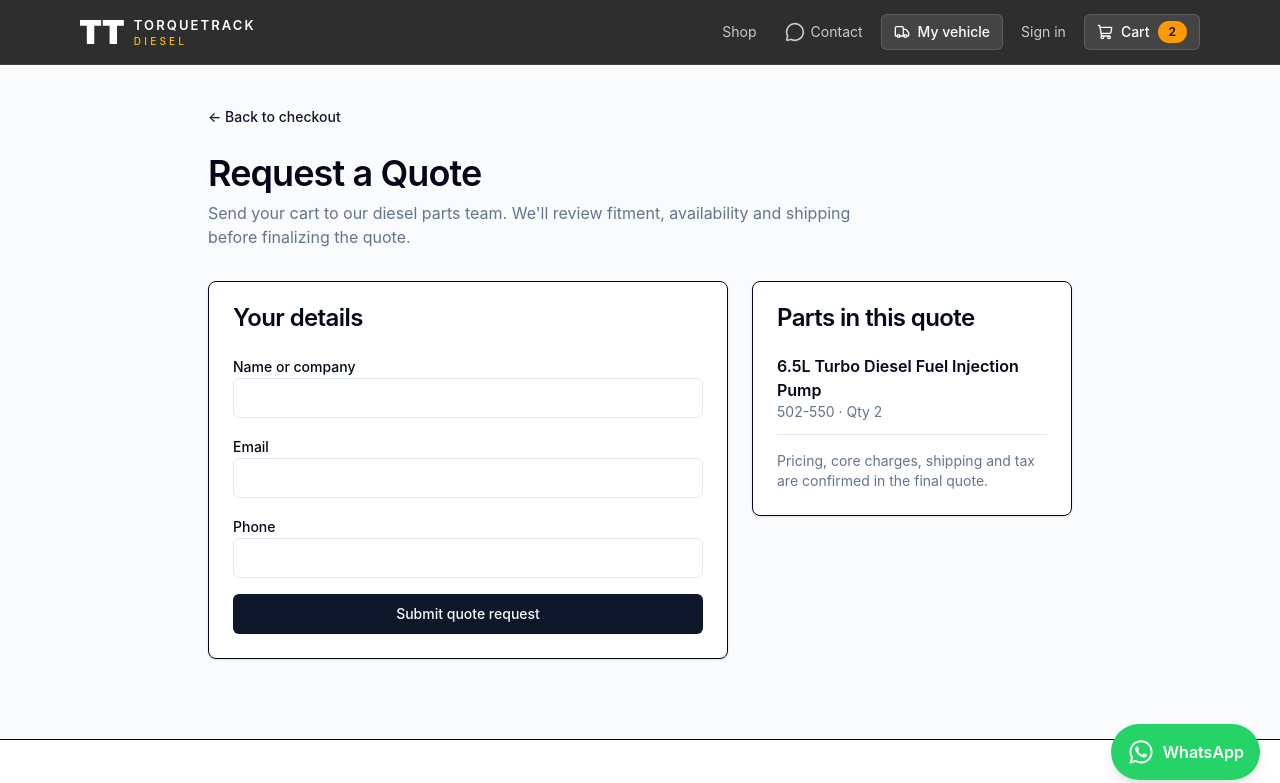
Test: RequestQuotePage › shows the API error
Expected: the text "6.5L Turbo Diesel Fuel Injection Pump" is shown, 777,354 -> 1047,402
Type "Jane Diesel" into the field labelled "Name or company" at [468, 398], box 233,378 -> 703,418
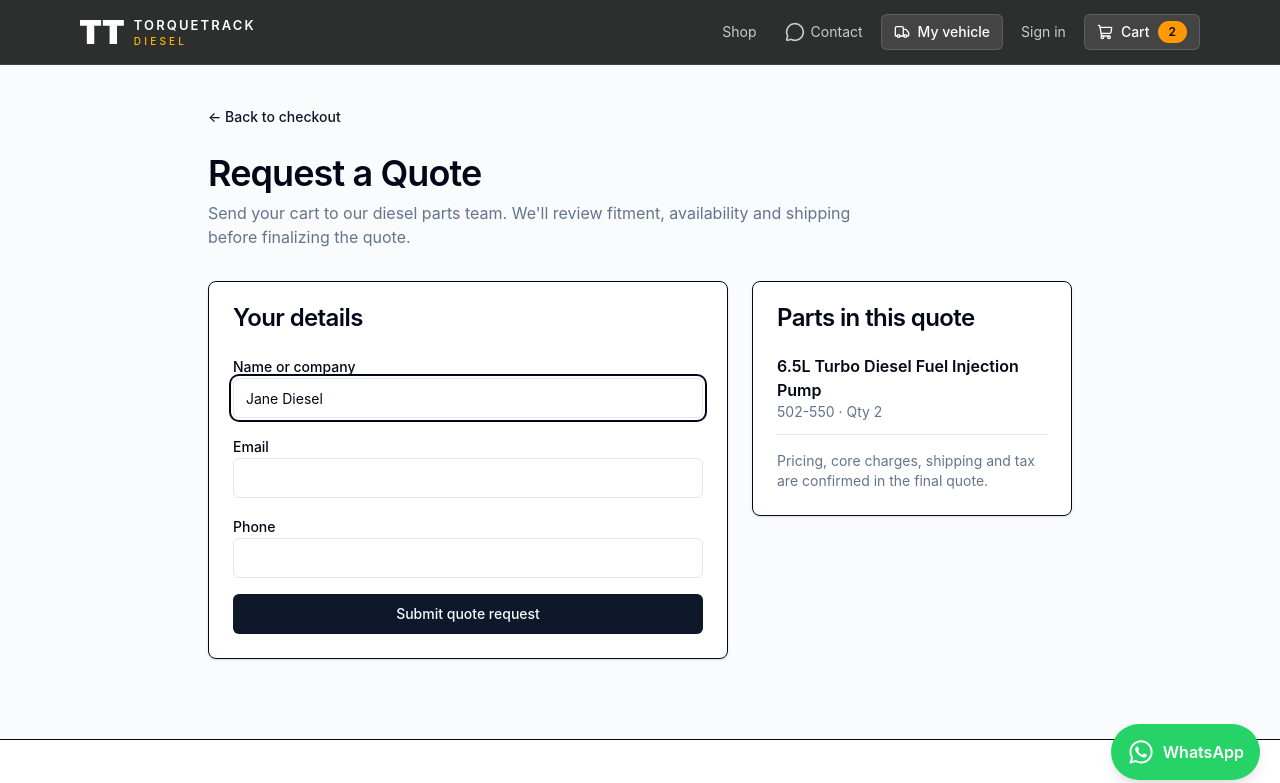
Click the button "Submit quote request" at [468, 614], box 233,594 -> 703,634
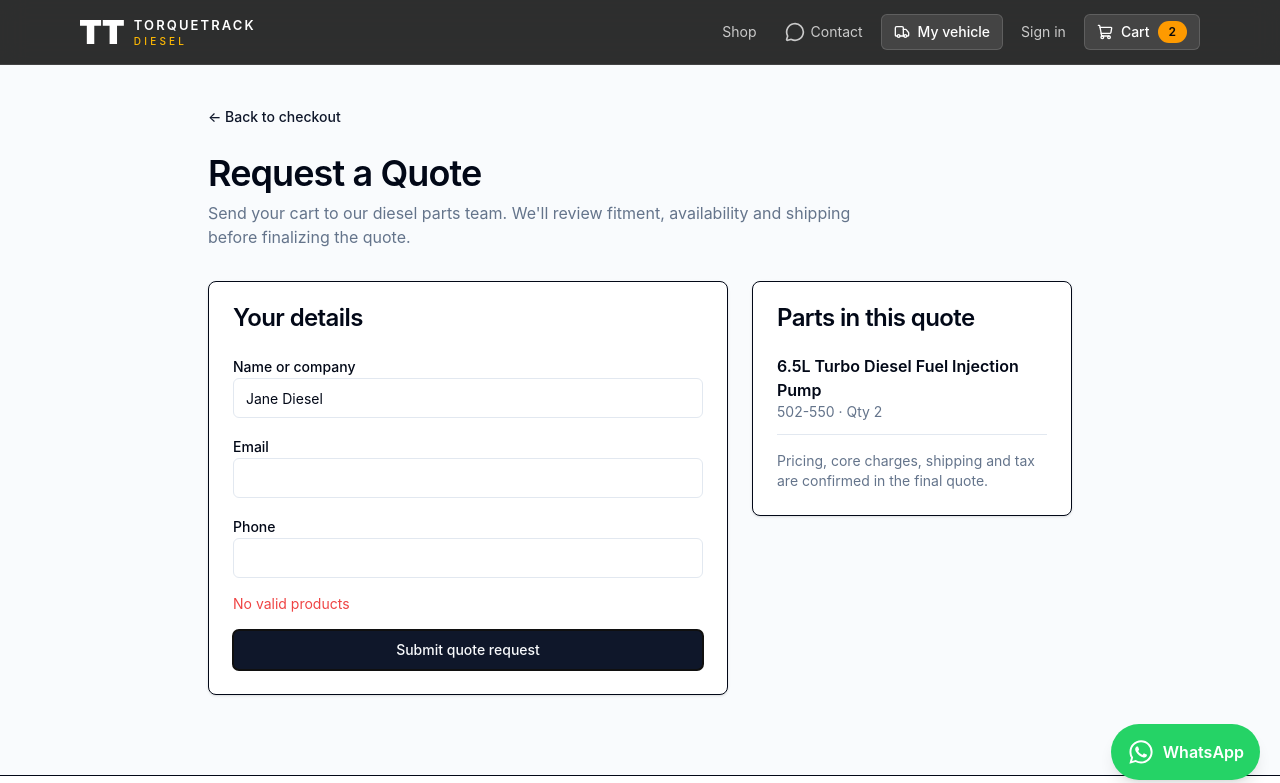
Expected: the text "No valid products" is shown, 233,595 -> 350,612
